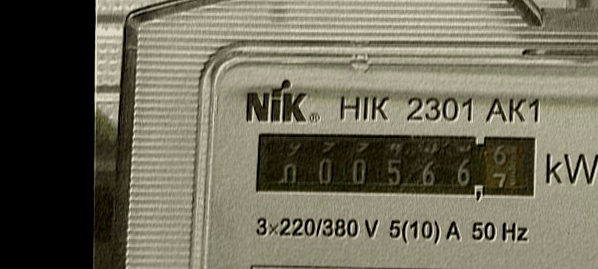0: (350, 157, 369, 186), (316, 156, 334, 185), (280, 160, 300, 184)
5: (385, 157, 404, 187)
6: (454, 156, 474, 187), (418, 159, 438, 187), (492, 144, 509, 169)
7: (491, 172, 507, 190)
9: (285, 138, 303, 159)
screen: (247, 126, 541, 205)
